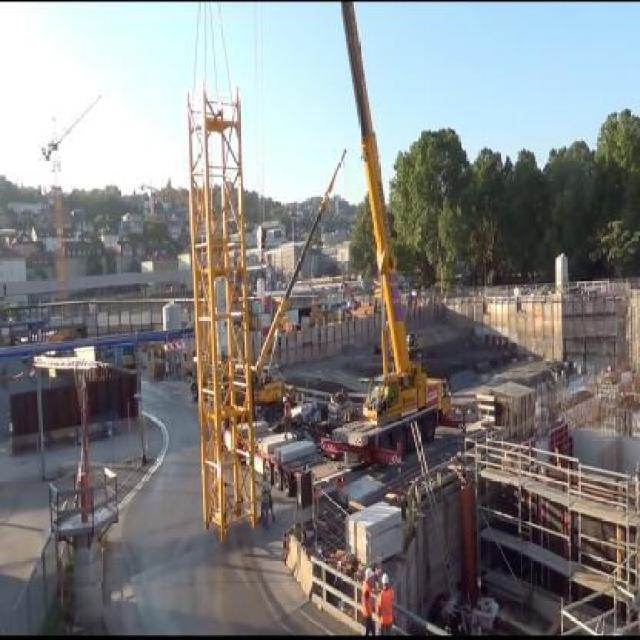Mobile Crane: (318, 0, 453, 452), (205, 147, 347, 424)
